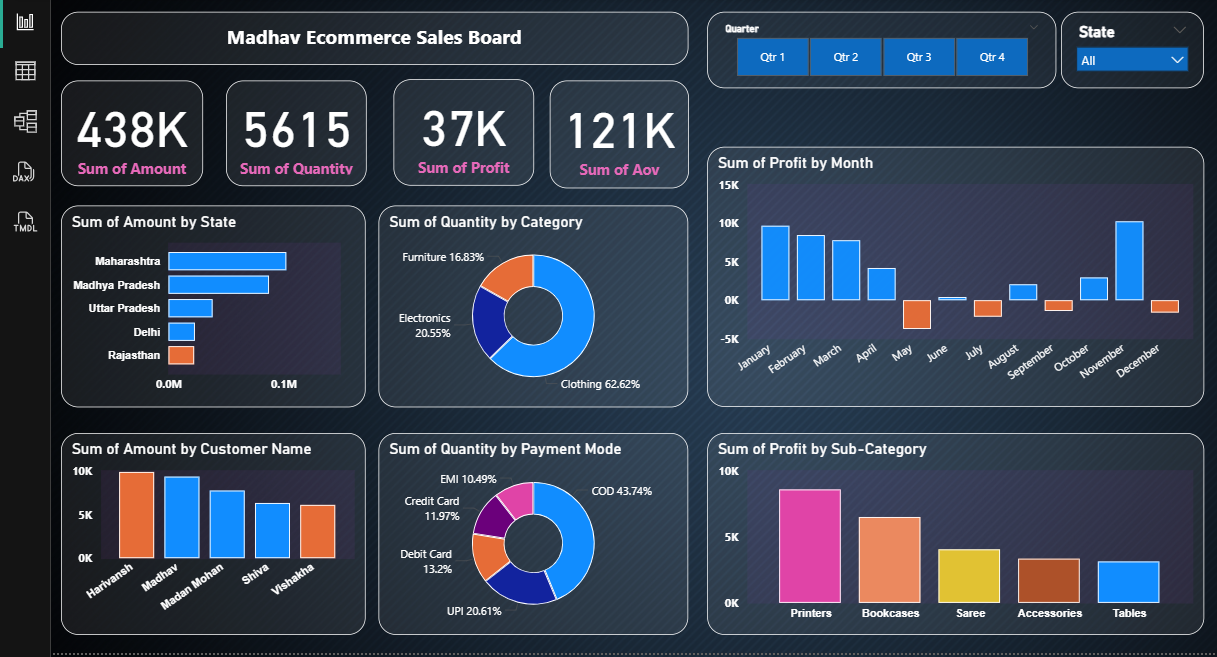

The dashboard page shown, as its layout file describes it:
{"tool":"powerbi","page":{"name":"Page 1","canvas":[1280,720],"ordinal":0},"visuals":[{"type":"textbox","box":[11.4,15.7,688.6,58.6],"z":0},{"type":"columnChart","fields":{"Category":["Orders.Order Date.Variation.Date Hierarchy.Month"],"Y":["Sum(Details (1).Profit)"]},"box":[720,162.9,545.7,285.7],"z":1000},{"type":"columnChart","fields":{"Category":["Details (1).Sub-Category"],"Y":["Sum(Details (1).Profit)"]},"box":[720,477.1,545.7,221.4],"z":2000},{"type":"donutChart","fields":{"Category":["Details (1).Category"],"Y":["Sum(Details (1).Quantity)"]},"box":[360,227.1,340,221.4],"z":3000},{"type":"donutChart","fields":{"Category":["Details (1).PaymentMode"],"Y":["Sum(Details (1).Quantity)"]},"box":[360,477.1,340,221.4],"z":4000},{"type":"card","fields":{"Values":["Sum(Details (1).Amount)"]},"box":[11.4,90,155.7,115.7],"z":5000},{"type":"card","title":"Quantity","fields":{"Values":["Sum(Details (1).Quantity)"]},"box":[191.4,90,154.3,115.7],"z":6000},{"type":"card","title":"Sum of Profit","fields":{"Values":["Sum(Details (1).Profit)"]},"box":[375.7,88.6,154.3,117.1],"z":7000},{"type":"card","title":"AOV","fields":{"Values":["Sum(Details (1).Aov)"]},"box":[547.1,90,152.9,118.6],"z":8000},{"type":"barChart","fields":{"Category":["Orders.State"],"Y":["Sum(Details (1).Amount)"]},"box":[11.4,227.1,334.3,221.4],"z":9000},{"type":"columnChart","fields":{"Category":["Orders.CustomerName"],"Y":["Sum(Details (1).Amount)"]},"box":[11.4,477.1,334.3,221.4],"z":10000},{"type":"slicer","fields":{"Values":["Orders.Order Date.Variation.Date Hierarchy.Quarter"]},"box":[720,15.7,382.9,84.3],"z":11000},{"type":"slicer","fields":{"Values":["Orders.State"]},"box":[1108.6,15.7,157.1,84.3],"z":12000}]}

Visuals, with their boxes on the page's 1280x720 design canvas (x1, y1, x2, y2). These are canvas units, not pixel positions in the 1217x657 screenshot, which may show the page scaled, cropped or inside an application window:
textbox: region(11, 16, 700, 74)
columnChart - Orders.Order Date.Variation.Date Hierarchy.Month x Sum(Details (1).Profit): region(720, 163, 1266, 449)
columnChart - Details (1).Sub-Category x Sum(Details (1).Profit): region(720, 477, 1266, 698)
donutChart - Details (1).Category x Sum(Details (1).Quantity): region(360, 227, 700, 448)
donutChart - Details (1).PaymentMode x Sum(Details (1).Quantity): region(360, 477, 700, 698)
card - Sum(Details (1).Amount): region(11, 90, 167, 206)
"Quantity" card: region(191, 90, 346, 206)
"Sum of Profit" card: region(376, 89, 530, 206)
"AOV" card: region(547, 90, 700, 209)
barChart - Orders.State x Sum(Details (1).Amount): region(11, 227, 346, 448)
columnChart - Orders.CustomerName x Sum(Details (1).Amount): region(11, 477, 346, 698)
slicer - Orders.Order Date.Variation.Date Hierarchy.Quarter: region(720, 16, 1103, 100)
slicer - Orders.State: region(1109, 16, 1266, 100)
